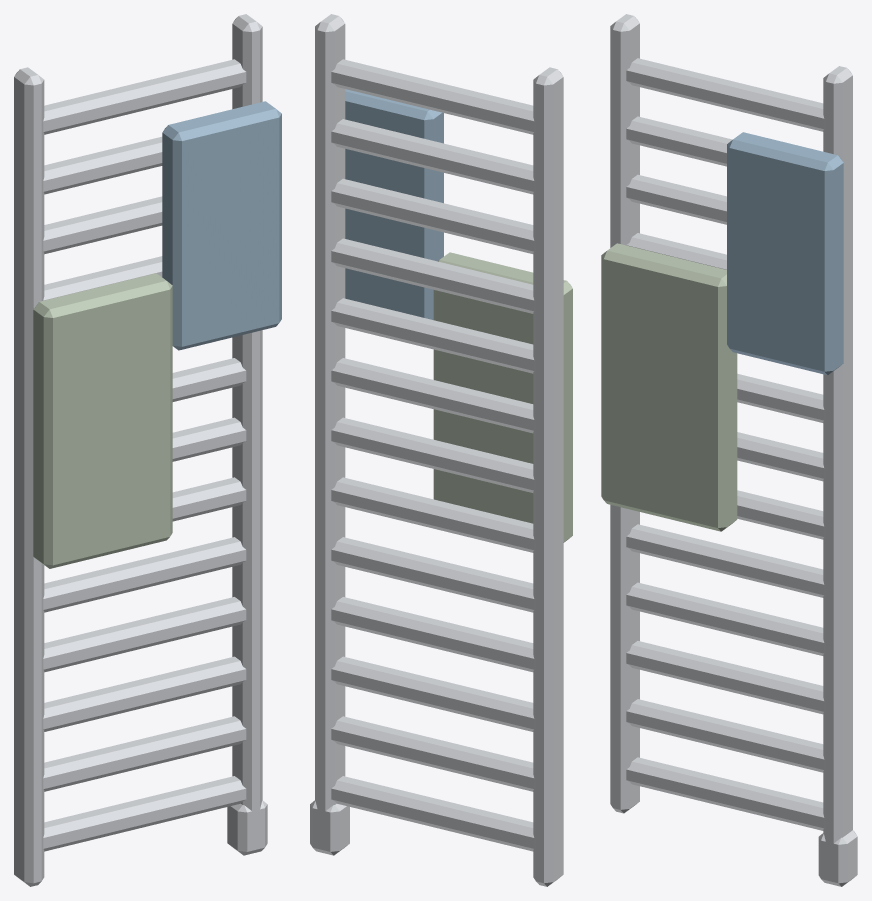
The model's file is VerticalTowelRadiator.glb.
3 renders of one model, left to right at view 1: azimuth 30°, elevation 25°; view 2: azimuth 150°, elevation 25°; view 3: azimuth 330°, elevation 25°, orthographic. The views are drawn at different scales.
Parts seen in each view (by area): view 1: VerticalTowelRadiator_Body; view 2: VerticalTowelRadiator_Body; view 3: VerticalTowelRadiator_Body.
Part boxes in pixels (left/top/right/bottom): VerticalTowelRadiator_Body: left=14, top=14, right=281, bottom=886; VerticalTowelRadiator_Body: left=310, top=14, right=572, bottom=886; VerticalTowelRadiator_Body: left=601, top=14, right=857, bottom=886.
Bounding box in the file's own units: 0.49 × 1.6 × 0.11.
